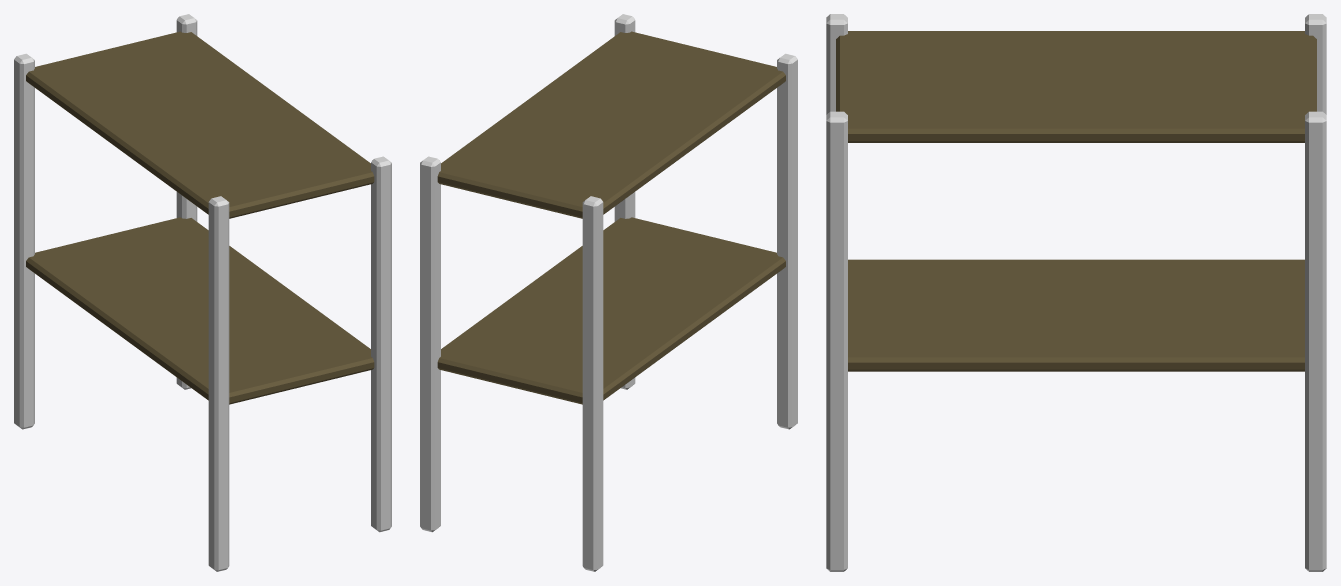
The model's file is SM_Shelving.fbx.
3 renders of one model, left to right at view 1: azimuth 30°, elevation 25°; view 2: azimuth 150°, elevation 25°; view 3: azimuth 270°, elevation 25°, orthographic. The views are drawn at different scales.
Parts seen in each view (by area): view 1: Cube.019; view 2: Cube.019; view 3: Cube.019.
Boxes of the visible parts, box(x1,y1,x2,y2) form: Cube.019: box(14, 14, 391, 571); Cube.019: box(420, 14, 797, 571); Cube.019: box(826, 14, 1326, 571).
Size of the model in its own units: 179 by 90.42 by 180.
